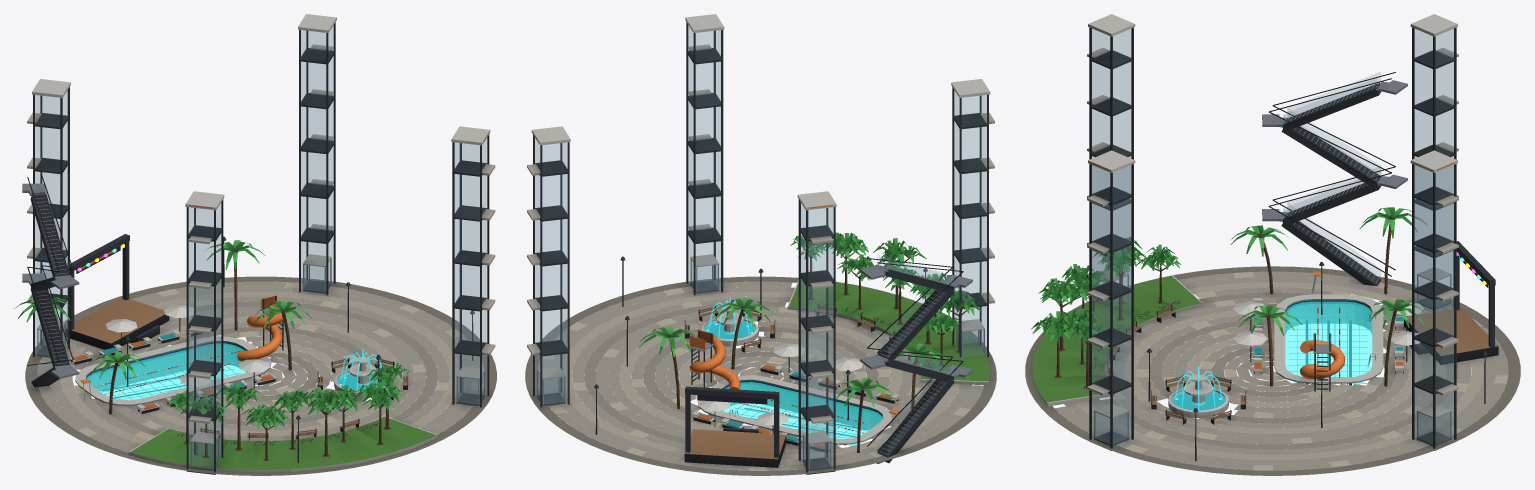
Rendered from dome_atrium.glb.
The picture shows the model from 3 angles, left to right: view 1: azimuth 30°, elevation 25°; view 2: azimuth 150°, elevation 25°; view 3: azimuth 270°, elevation 25°; orthographic projection. The views are drawn at different scales.
Parts seen in each view (by area): view 1: Atrium_Ground, Lift_Shafts, Escalators, Atrium_Water, Lift_0, Lift_3, Lift_2; view 2: Atrium_Ground, Lift_Shafts, Escalators, Atrium_Water, Lift_0, Lift_1, Lift_3, Lift_2; view 3: Atrium_Ground, Lift_Shafts, Escalators, Atrium_Water, Lift_0, Lift_3, Lift_1.
Part boxes in pixels (left/top/right/bottom): Atrium_Ground: left=14, top=234, right=496, bottom=475; Lift_Shafts: left=27, top=14, right=495, bottom=474; Escalators: left=22, top=175, right=79, bottom=387; Atrium_Water: left=86, top=343, right=386, bottom=400; Lift_0: left=303, top=254, right=331, bottom=293; Lift_3: left=456, top=366, right=485, bottom=405; Lift_2: left=190, top=431, right=219, bottom=470; Atrium_Ground: left=525, top=232, right=996, bottom=475; Lift_Shafts: left=527, top=14, right=994, bottom=474; Escalators: left=860, top=255, right=972, bottom=463; Atrium_Water: left=704, top=297, right=882, bottom=438; Lift_0: left=537, top=366, right=565, bottom=405; Lift_1: left=802, top=431, right=831, bottom=470; Lift_3: left=690, top=254, right=719, bottom=293; Lift_2: left=956, top=319, right=984, bottom=355; Atrium_Ground: left=1025, top=207, right=1520, bottom=475; Lift_Shafts: left=1087, top=14, right=1458, bottom=450; Escalators: left=1262, top=72, right=1407, bottom=288; Atrium_Water: left=1171, top=301, right=1372, bottom=410; Lift_0: left=1416, top=404, right=1451, bottom=445; Lift_3: left=1094, top=404, right=1129, bottom=445; Lift_1: left=1417, top=267, right=1451, bottom=309.
Size of the model in its own units: 40.26 by 26.88 by 39.97.
